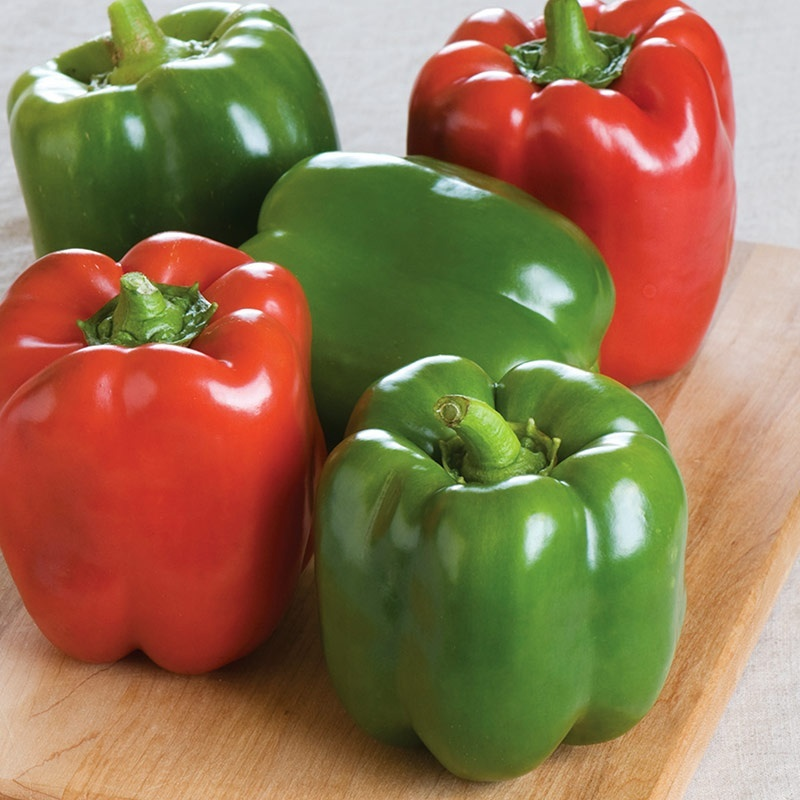fruit: (314, 351, 689, 790), (1, 229, 328, 680), (405, 1, 738, 396), (234, 149, 615, 450), (5, 1, 342, 259)
pedicle: (75, 279, 220, 349), (436, 416, 563, 486), (504, 32, 636, 90), (91, 37, 223, 91)
